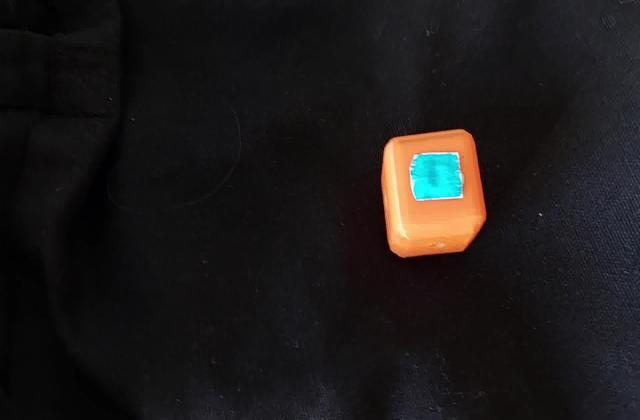blue: (420, 160, 456, 191)
sticker: (376, 123, 494, 264)
